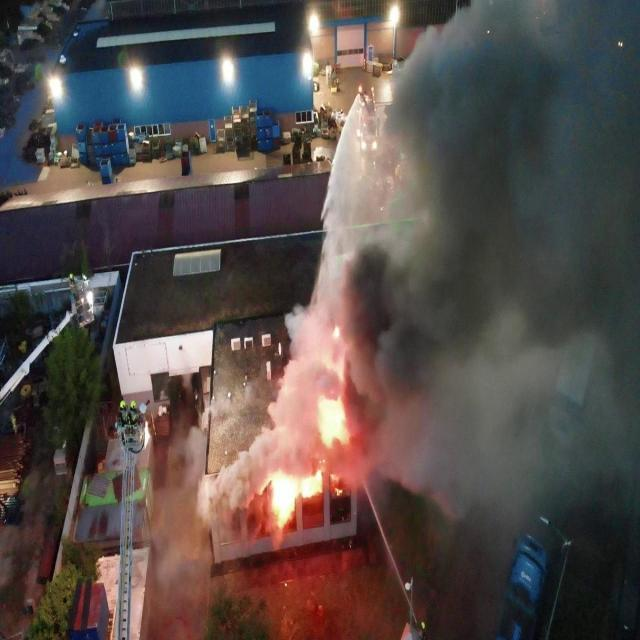Fire: (272, 468, 322, 528), (318, 396, 350, 447), (332, 326, 340, 339), (330, 474, 340, 484), (335, 487, 343, 497)
Smoke: (154, 0, 640, 593)
